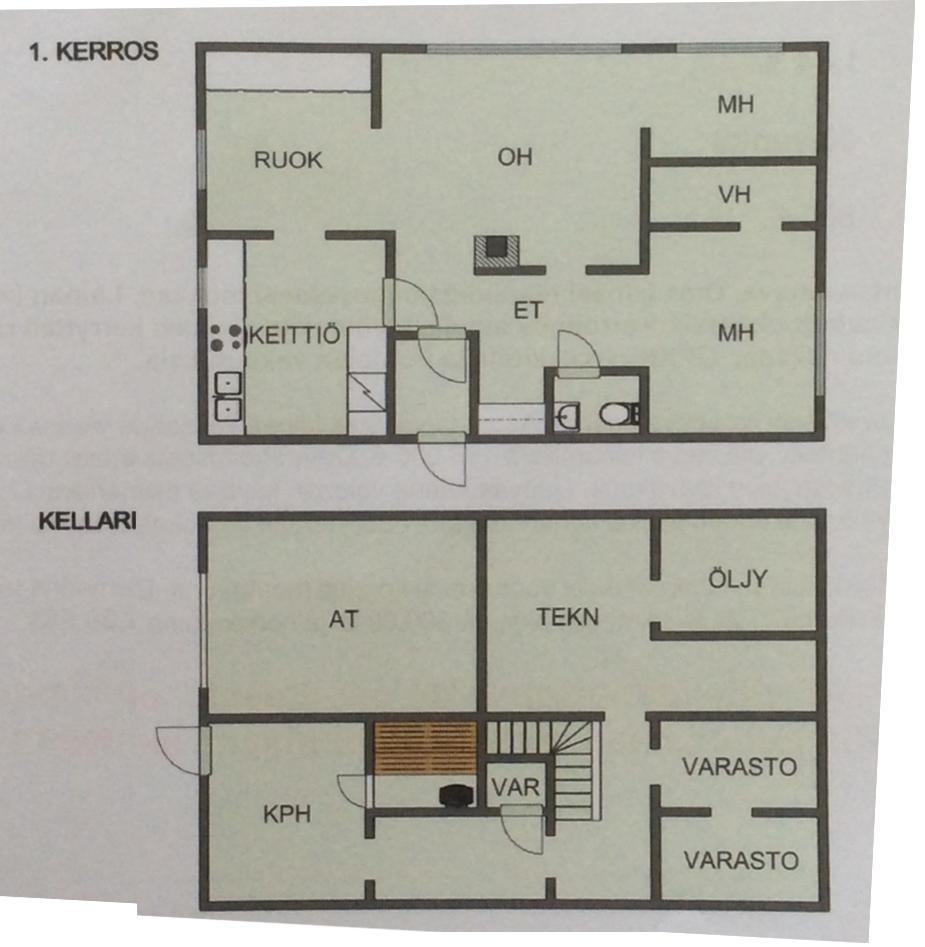bathroom: (551, 373, 642, 433)
door: (414, 320, 472, 390), (377, 271, 440, 333), (150, 723, 215, 781), (416, 429, 473, 491), (497, 803, 553, 859), (553, 328, 602, 383), (332, 768, 378, 806)
perimeter: (192, 37, 829, 449), (191, 508, 835, 915)
stairs: (548, 718, 597, 826), (488, 715, 594, 756)
window: (418, 37, 628, 58), (808, 283, 835, 407), (194, 560, 215, 695), (665, 38, 794, 58), (191, 262, 214, 320), (194, 119, 210, 196)
